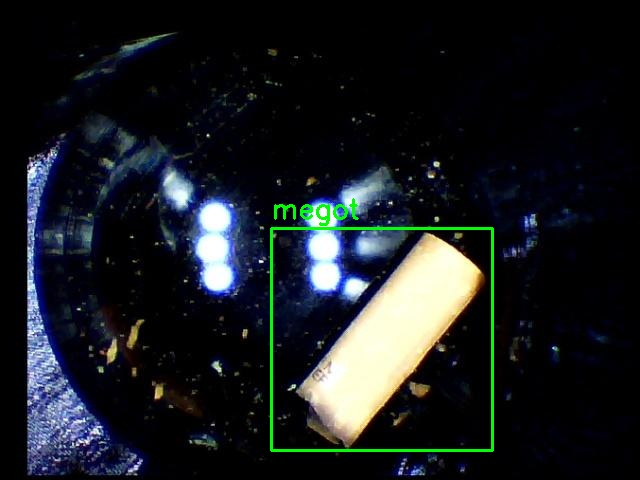megot: (271, 228, 492, 450)
